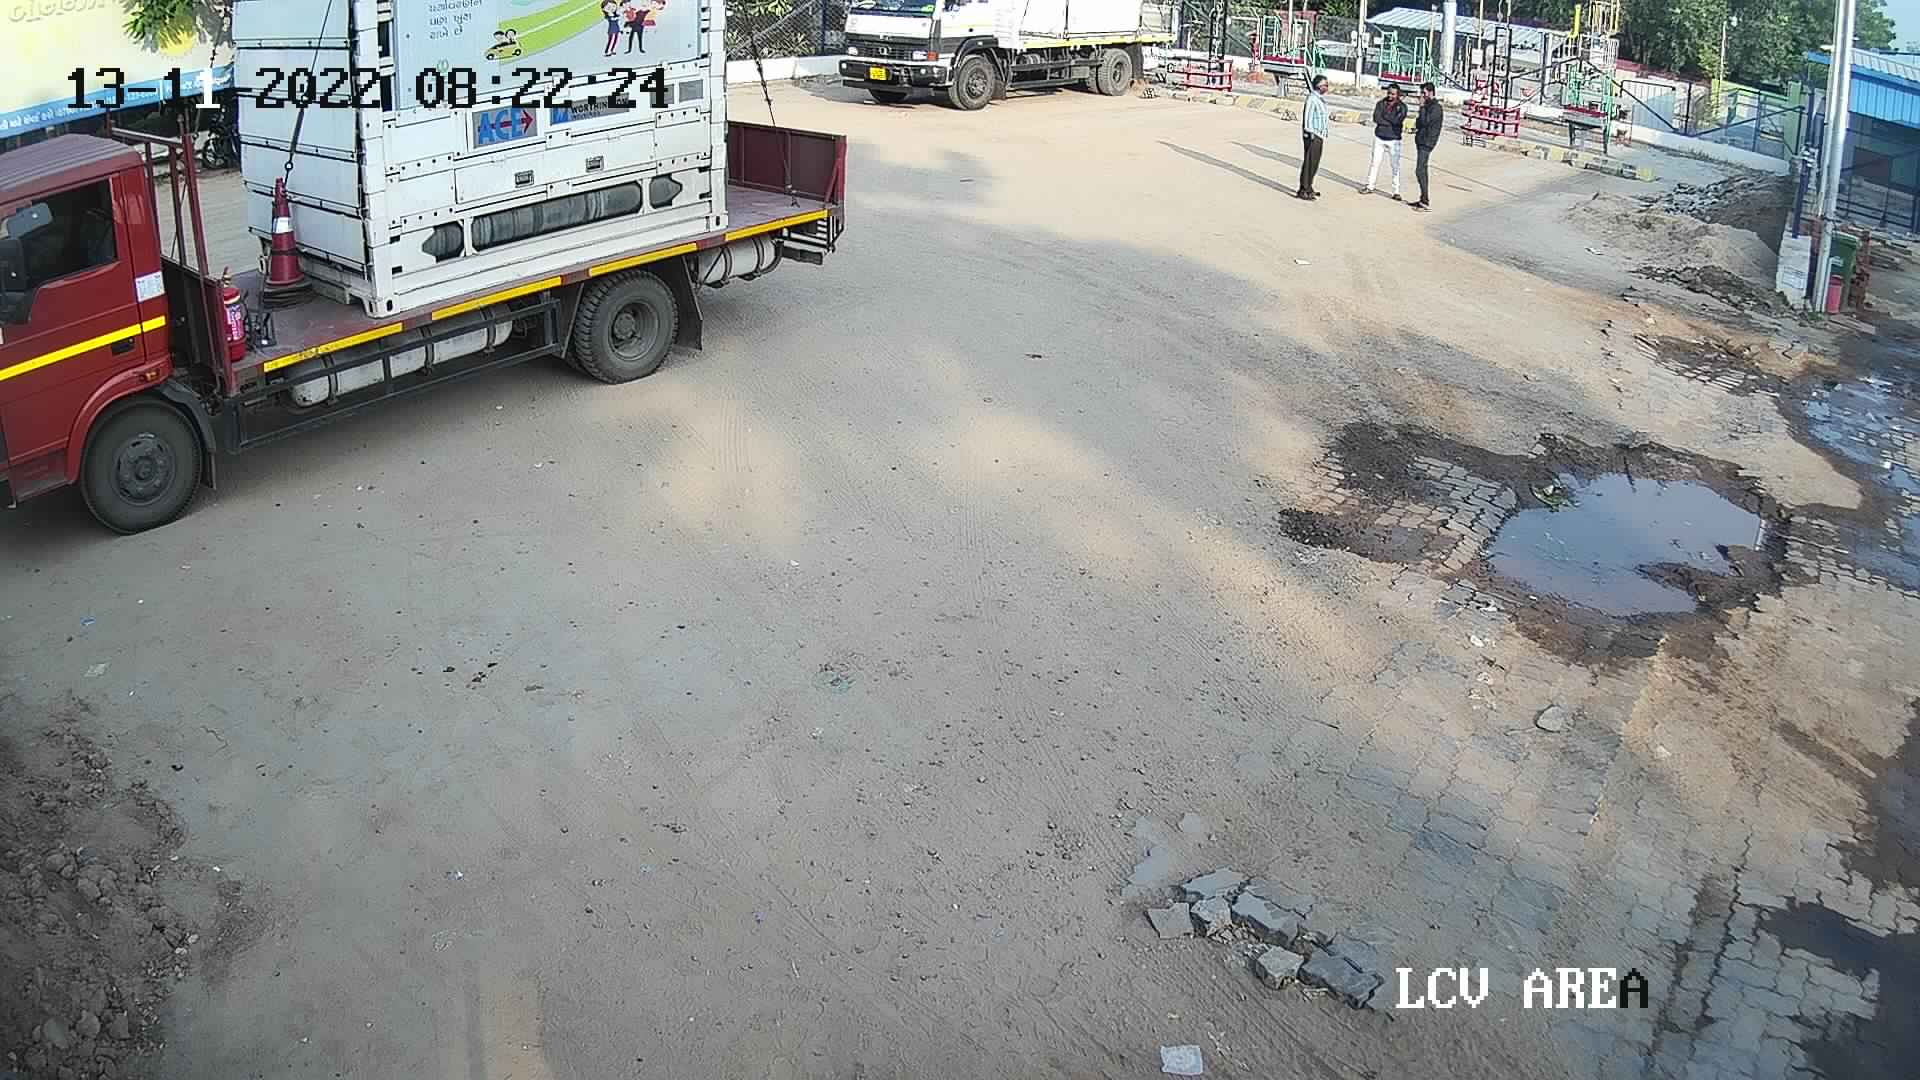HMV: (1, 0, 862, 542), (824, 0, 1189, 116)
